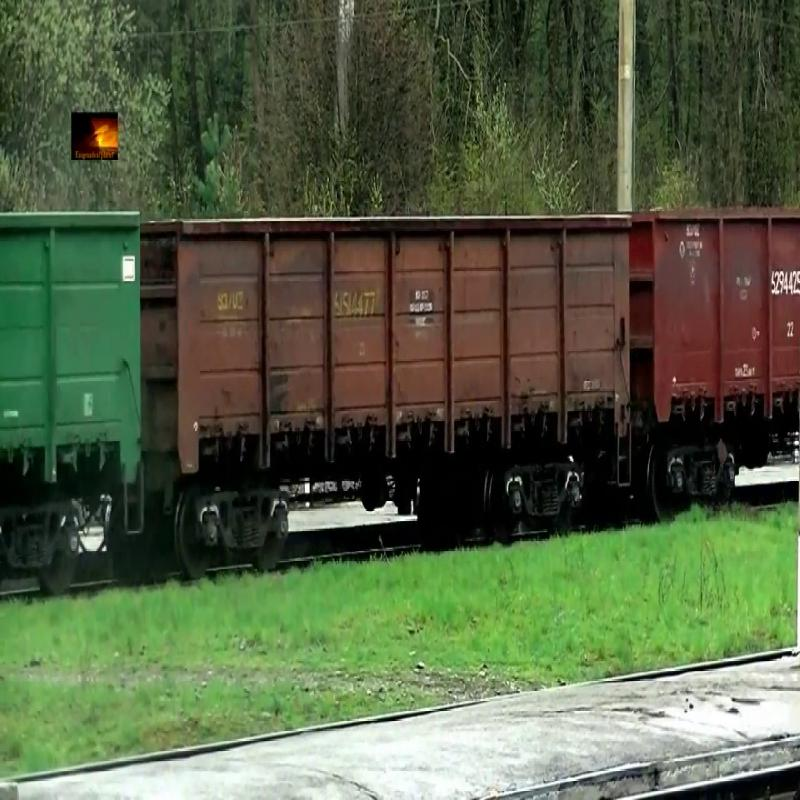train: (144, 213, 634, 482), (1, 210, 143, 494), (635, 210, 798, 428)
